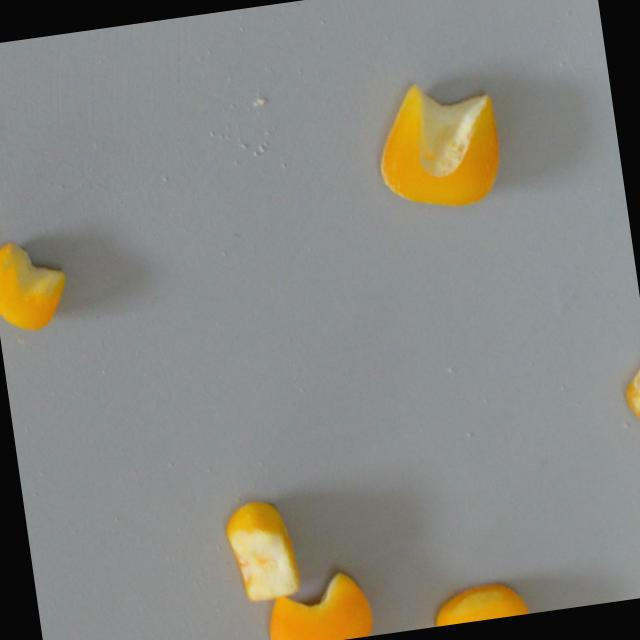dañado: (363, 64, 514, 223), (257, 566, 376, 640), (0, 233, 74, 340)
no_canjicado: (428, 576, 533, 627)
no_desgerminado: (611, 335, 640, 437)
punto_negro: (220, 493, 306, 608)
